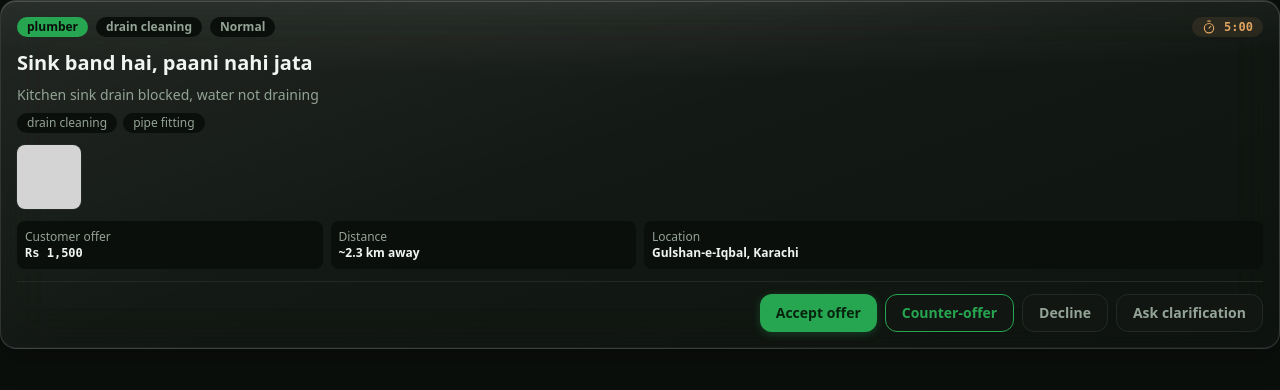
Scenario: IncomingJobCard › shows an error when the accept fails
Click the button "Accept offer".
click(818, 313)  # box [760, 294, 877, 332]
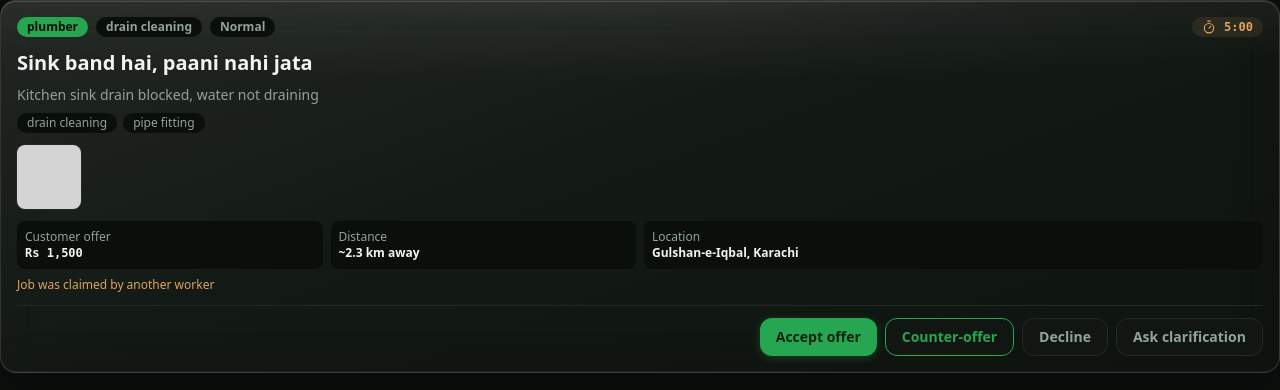
Expected: the text "Job was claimed by another worker" is shown, [17, 276, 214, 293]
